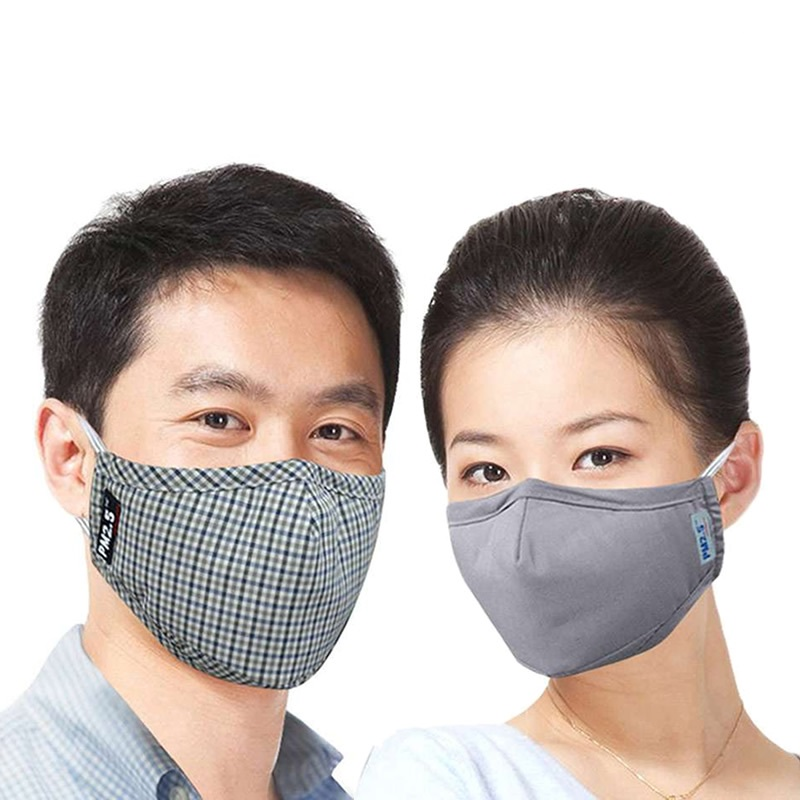face_mask: (105, 276, 383, 651), (440, 314, 701, 669)
